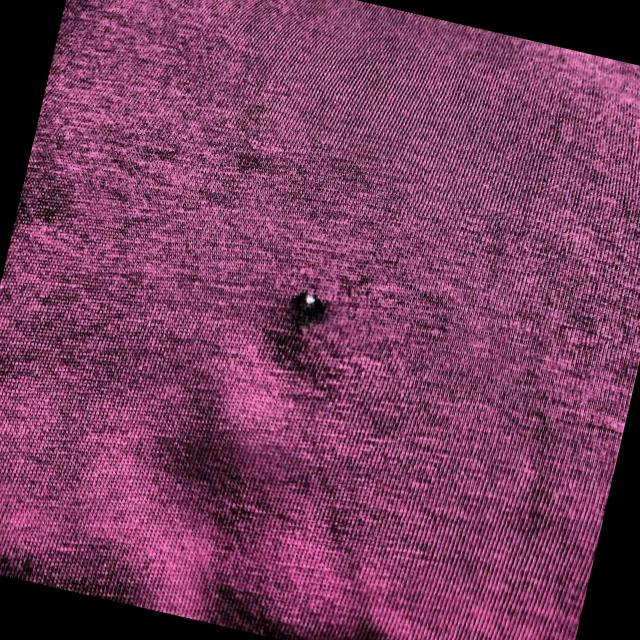cut: (287, 280, 334, 324)
